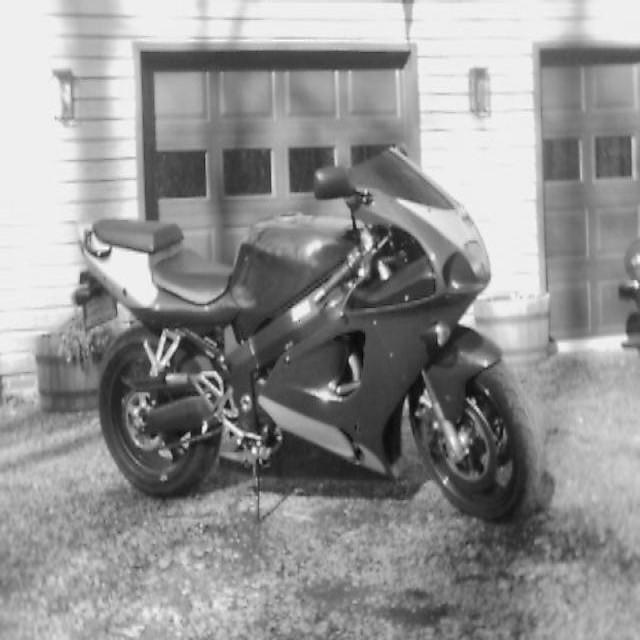Motorcycle: (76, 148, 543, 521)
